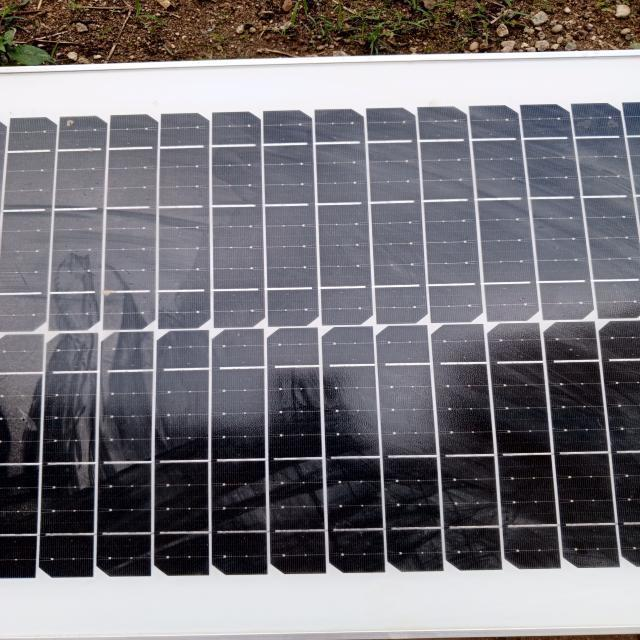Anomaly Solar Panel: (0, 91, 635, 491)
Surface Contaminant: (0, 91, 635, 491)
